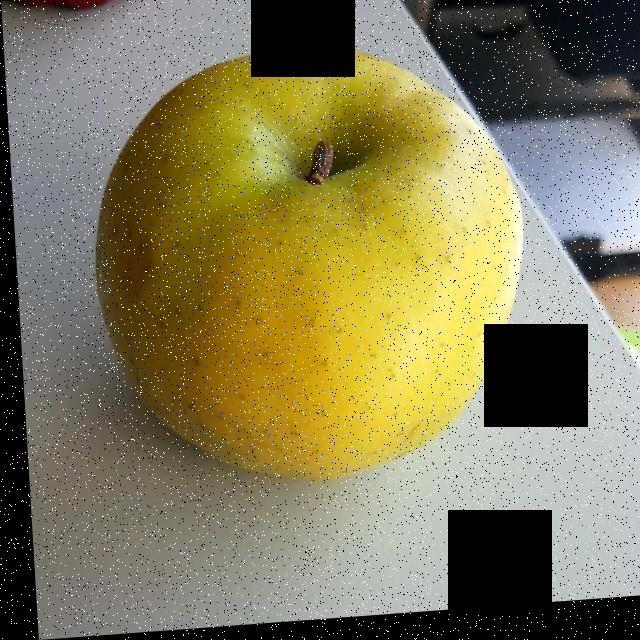apple: (94, 57, 502, 480)
